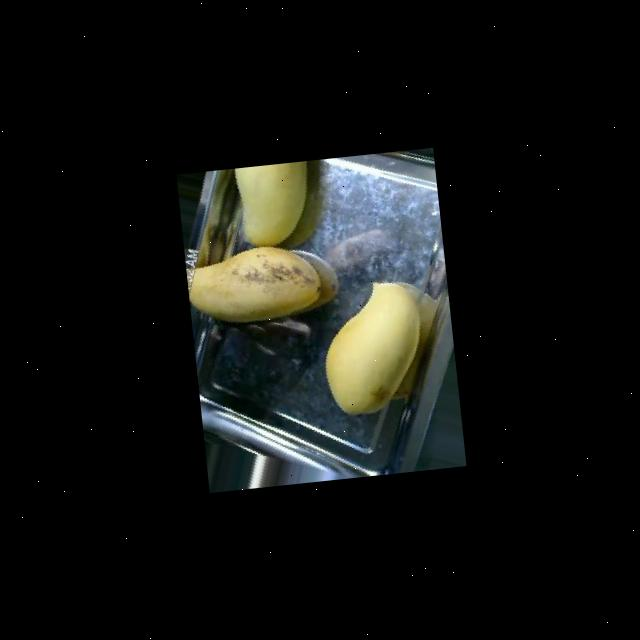Mango: (184, 242, 322, 328), (232, 162, 315, 250)
